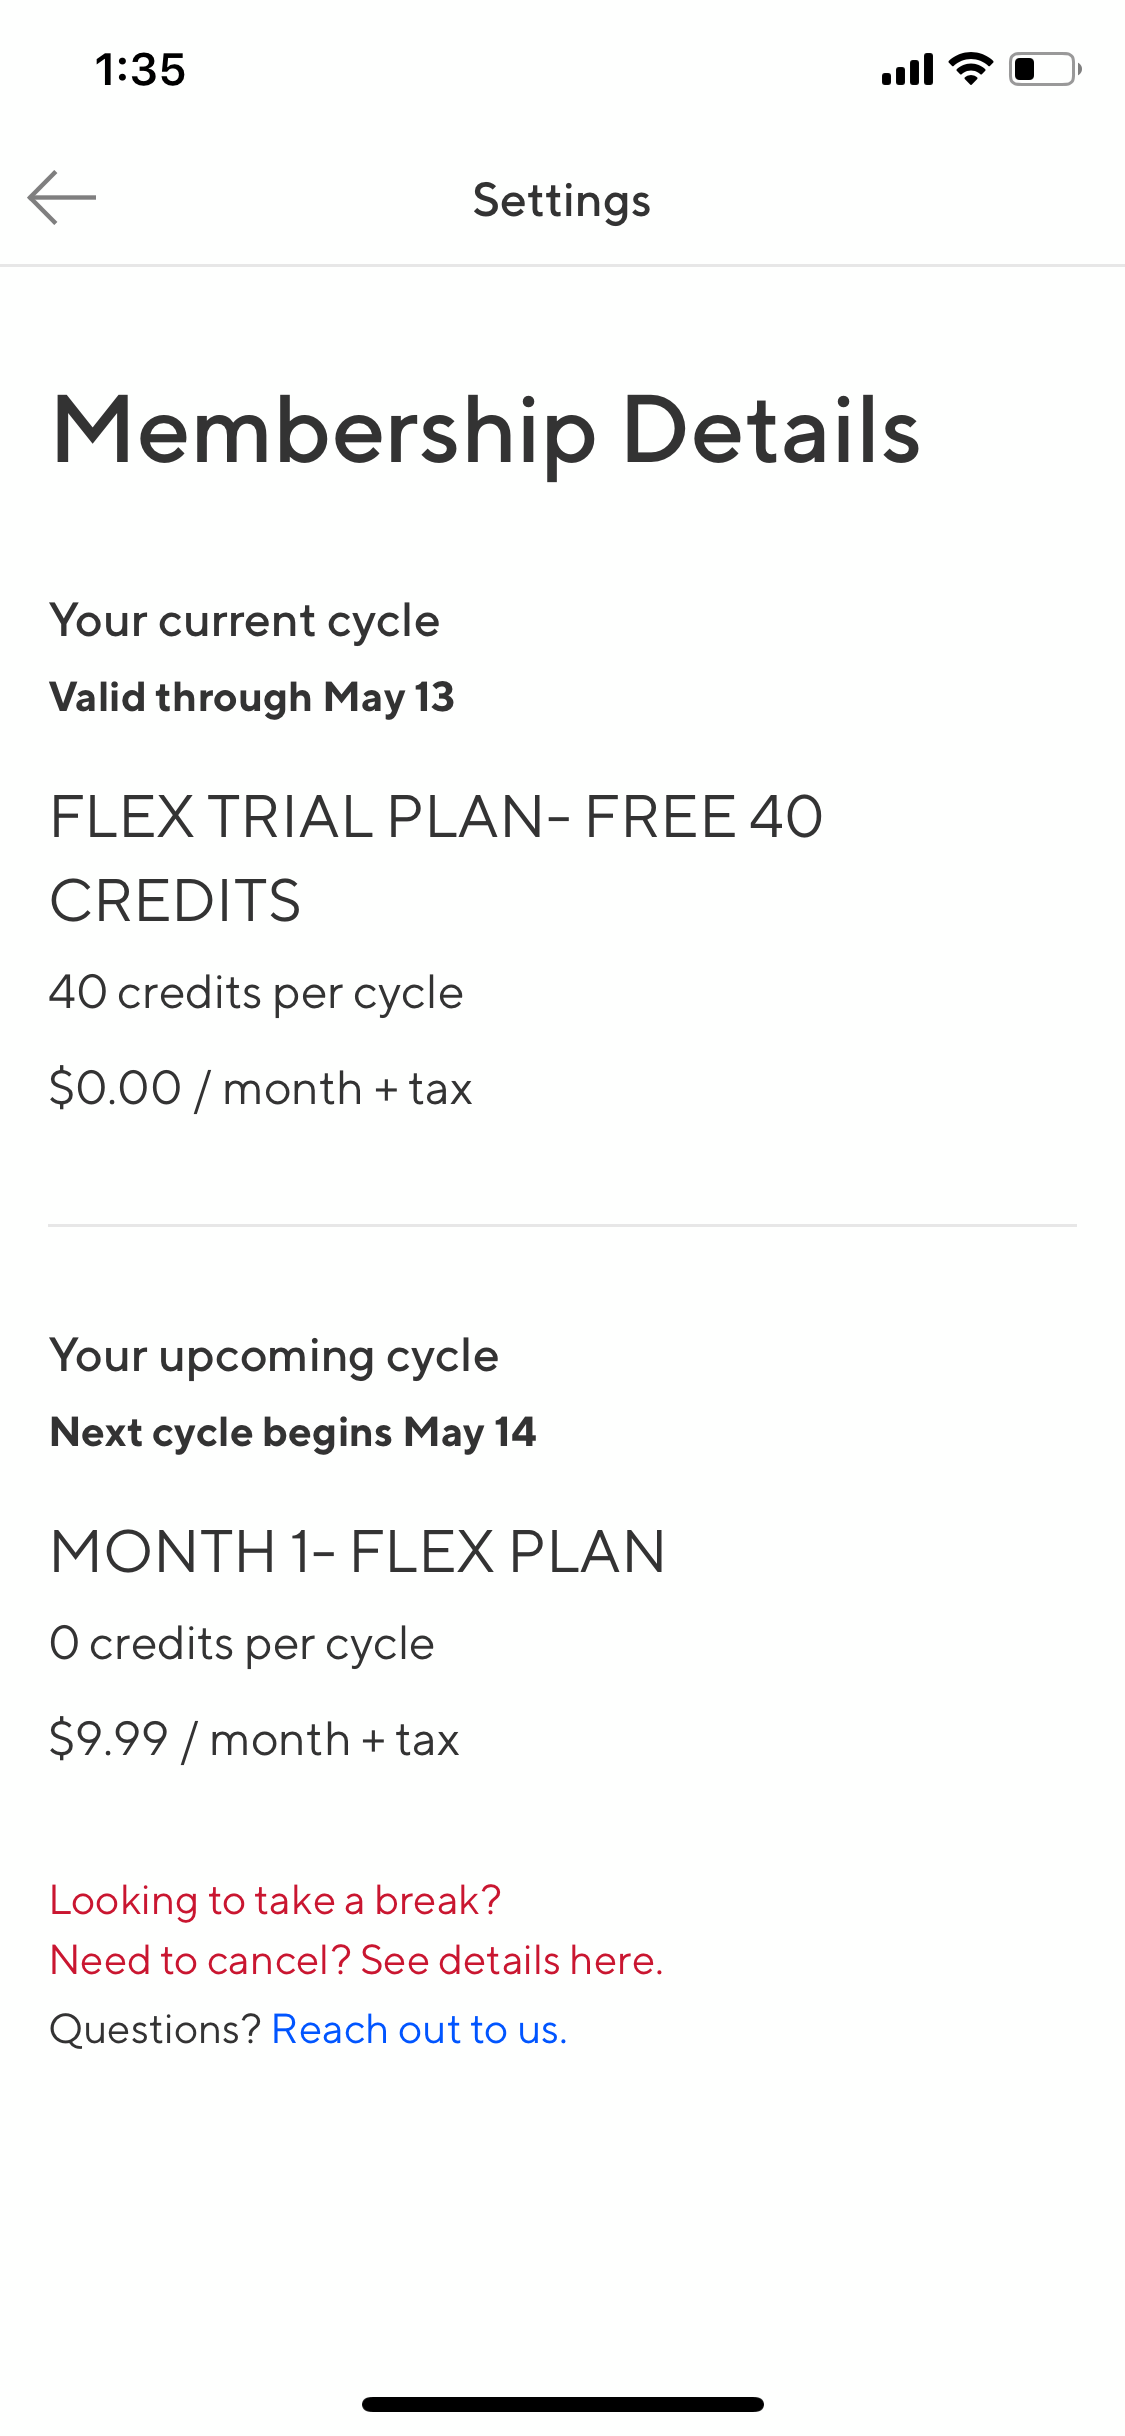Buttons: (2, 144, 123, 256)
